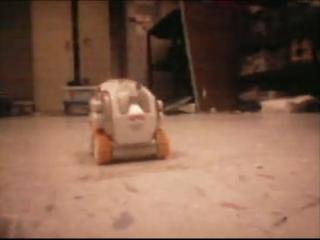cozmo: (86, 77, 170, 166)
